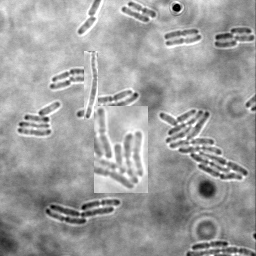Dividing: (84, 51, 98, 120), (128, 1, 157, 18), (166, 34, 202, 47), (52, 67, 84, 81), (164, 28, 200, 39), (192, 239, 229, 249)
Microcolony: (158, 109, 249, 180), (94, 106, 148, 193), (76, 88, 139, 119), (45, 199, 121, 224), (18, 101, 61, 136), (214, 27, 255, 48)
Rod: (121, 5, 150, 23), (78, 16, 99, 34), (50, 79, 72, 89), (69, 73, 84, 82)
